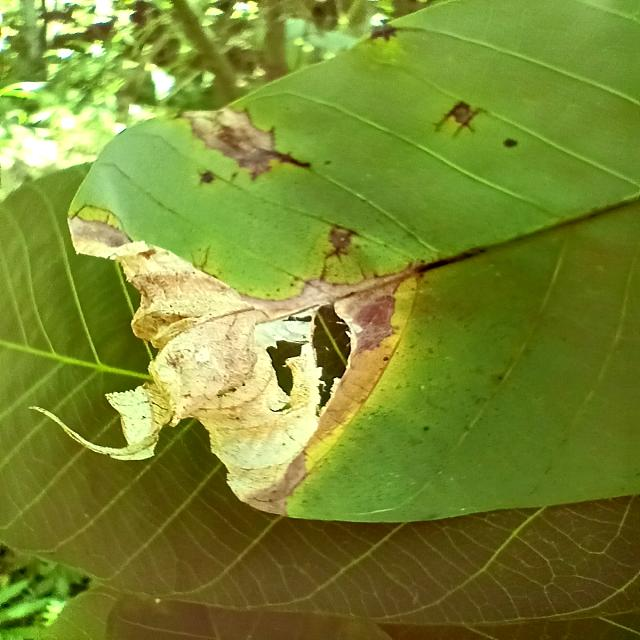Colletotrichum: (503, 138, 518, 148)
Corynespora: (400, 249, 483, 282), (432, 98, 482, 140), (319, 224, 357, 279), (271, 149, 311, 169), (369, 24, 400, 43)
Leaf-Blight: (30, 216, 404, 516), (188, 107, 272, 172)
